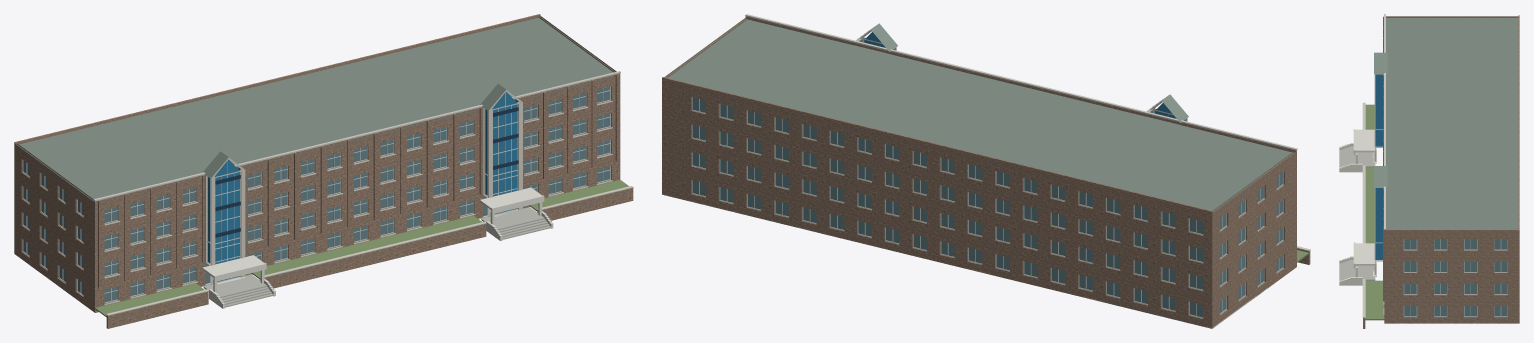
3 renders of one model, left to right at view 1: azimuth 30°, elevation 25°; view 2: azimuth 150°, elevation 25°; view 3: azimuth 270°, elevation 25°, orthographic. The views are drawn at different scales.
Visible parts, largest first — view 1: main-roof, front-four-floor-window-groups__wall, front-four-floor-window-groups__window__glass, west-estimated__wall, front-brick-retaining-wall, front-brick-fins, front-raised-planting-bed-lawn, roof-parapets, front-four-floor-window-groups__window__frame, front-four-floor-window-groups__window__reveal, front-window-sill, gable-core-1__window__glass (+15 smaller); view 2: rear-estimated__wall, main-roof, rear-estimated__window__glass, west-estimated__wall, rear-estimated__window__frame, rear-estimated__window__reveal, roof-parapets, front-roof-coping, rear-estimated__window__mullion, west-estimated__window__glass, front-four-floor-window-groups__wall, west-estimated__window__reveal; view 3: main-roof, east-estimated__wall, east-estimated__window__glass, front-raised-planting-bed-lawn, east-estimated__window__frame, gable-core-1-glass-return__window__glass, front-retaining-wall-coping, gable-core-2-glass-return__window__glass, gable-core-1-entry-canopy, gable-core-2-entry-canopy, roof-parapets, front-roof-coping (+12 smaller).
Part boxes in pixels (x1,y1,x2,y2): main-roof: [17, 17, 619, 203]; front-four-floor-window-groups__wall: [95, 74, 620, 312]; front-four-floor-window-groups__window__glass: [104, 87, 610, 302]; west-estimated__wall: [14, 143, 94, 312]; front-brick-retaining-wall: [106, 188, 633, 328]; front-brick-fins: [98, 74, 618, 287]; front-raised-planting-bed-lawn: [95, 180, 628, 317]; roof-parapets: [14, 14, 620, 202]; front-four-floor-window-groups__window__frame: [104, 87, 610, 302]; front-four-floor-window-groups__window__reveal: [104, 86, 611, 303]; front-window-sill: [104, 101, 612, 305]; gable-core-1__window__glass: [215, 172, 239, 281]; rear-estimated__wall: [662, 78, 1212, 328]; main-roof: [666, 19, 1296, 212]; rear-estimated__window__glass: [692, 97, 1203, 317]; west-estimated__wall: [1212, 151, 1296, 327]; rear-estimated__window__frame: [692, 97, 1203, 318]; rear-estimated__window__reveal: [691, 97, 1203, 318]; roof-parapets: [662, 16, 1296, 212]; front-roof-coping: [745, 14, 1297, 150]; rear-estimated__window__mullion: [699, 98, 1196, 316]; west-estimated__window__glass: [1220, 172, 1282, 313]; front-four-floor-window-groups__wall: [745, 18, 1294, 152]; west-estimated__window__reveal: [1220, 171, 1284, 315]; main-roof: [1386, 18, 1518, 231]; east-estimated__wall: [1384, 230, 1519, 323]; east-estimated__window__glass: [1404, 239, 1507, 316]; front-raised-planting-bed-lawn: [1365, 104, 1384, 320]; east-estimated__window__frame: [1403, 239, 1507, 316]; gable-core-1-glass-return__window__glass: [1375, 74, 1382, 146]; front-retaining-wall-coping: [1362, 102, 1365, 317]; gable-core-2-glass-return__window__glass: [1375, 188, 1383, 259]; gable-core-1-entry-canopy: [1355, 129, 1375, 152]; gable-core-2-entry-canopy: [1355, 243, 1375, 265]; roof-parapets: [1384, 15, 1519, 230]; front-roof-coping: [1384, 14, 1385, 229].
Bounding box in the file's own units: 75.81 × 18.7 × 26.88.
Materials: 10 (1 with a texture image).
